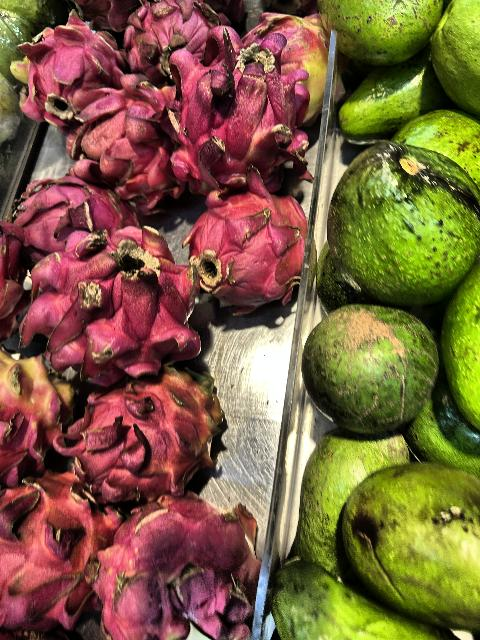buah-naga-belum-matang: (75, 374, 223, 488), (238, 8, 340, 130), (0, 336, 78, 490)
buah-naga-matang: (14, 224, 202, 380), (166, 32, 316, 198), (106, 492, 264, 640), (4, 470, 126, 640), (186, 183, 320, 315), (60, 92, 188, 216), (0, 176, 154, 258), (18, 7, 118, 118), (126, 0, 230, 76)
